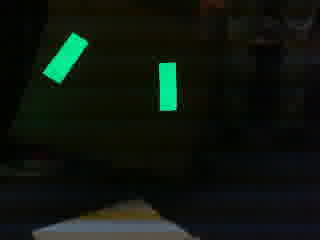target: (40, 32, 188, 111)
